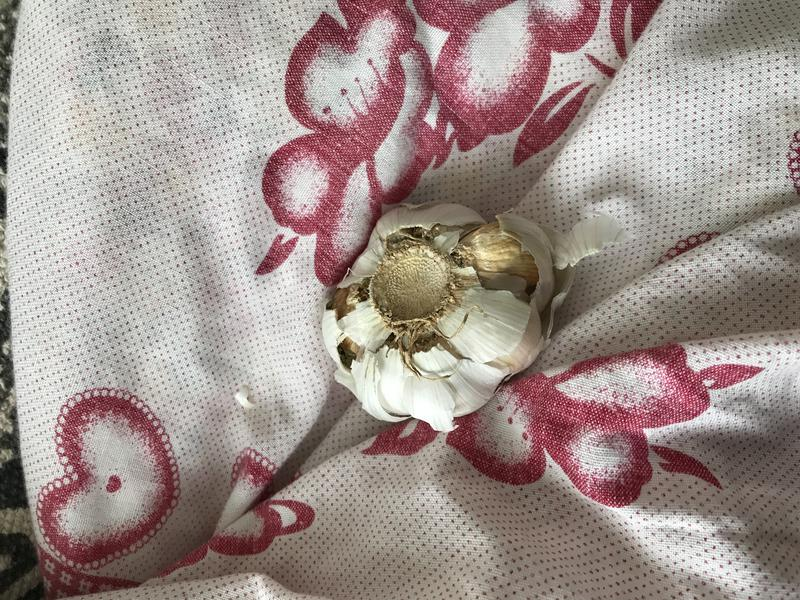garlic: (310, 191, 576, 432)
